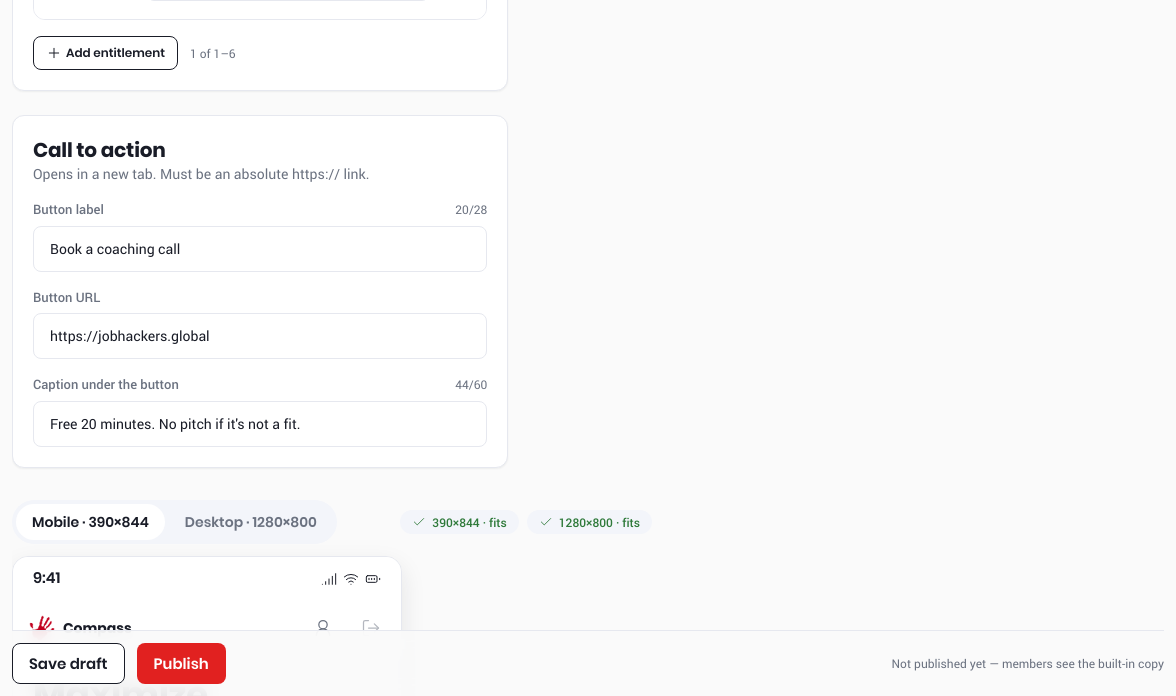
Admin → Coaching tab › blocks publish on an invalid CTA url or a blank required field, but still saves a draft
The image size is (1176, 696).
(page scrolled)
Replace the text in the field labelled "Button URL" with "http://jobhackers.global" at (260, 336), box [33,313,487,359]
(page scrolled)
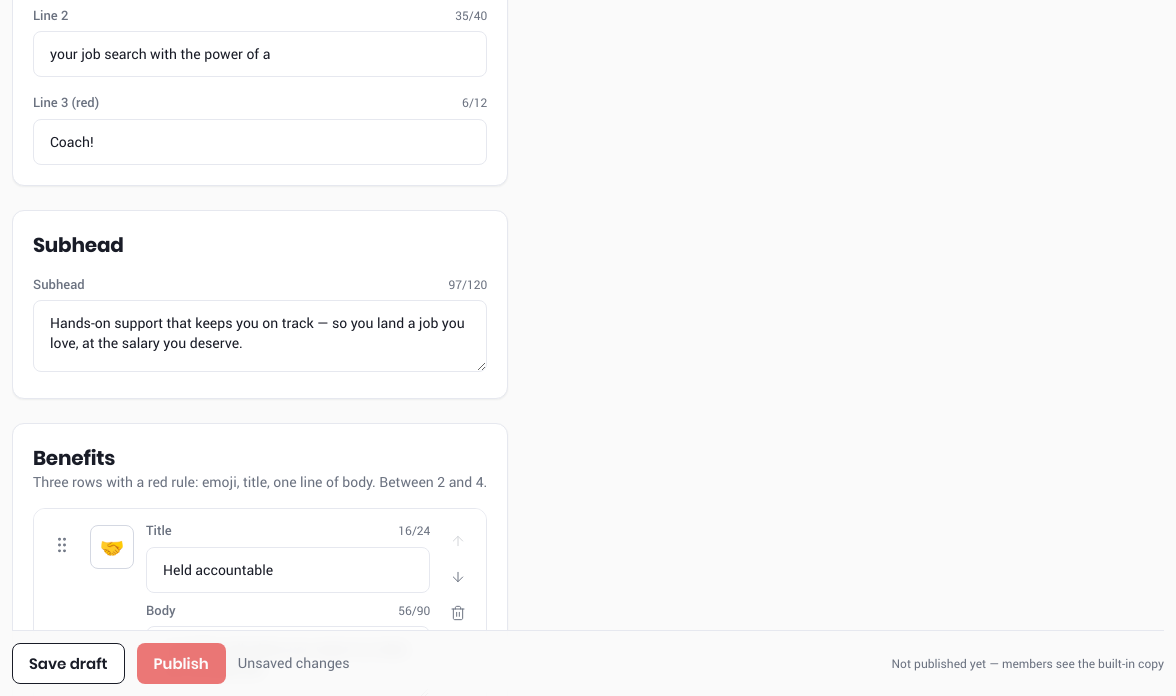
Expected: the button "Publish" is disabled, [136,643,226,684]
Clear the text box labelled "Subhead" at (260, 336), box [33,300,487,372]
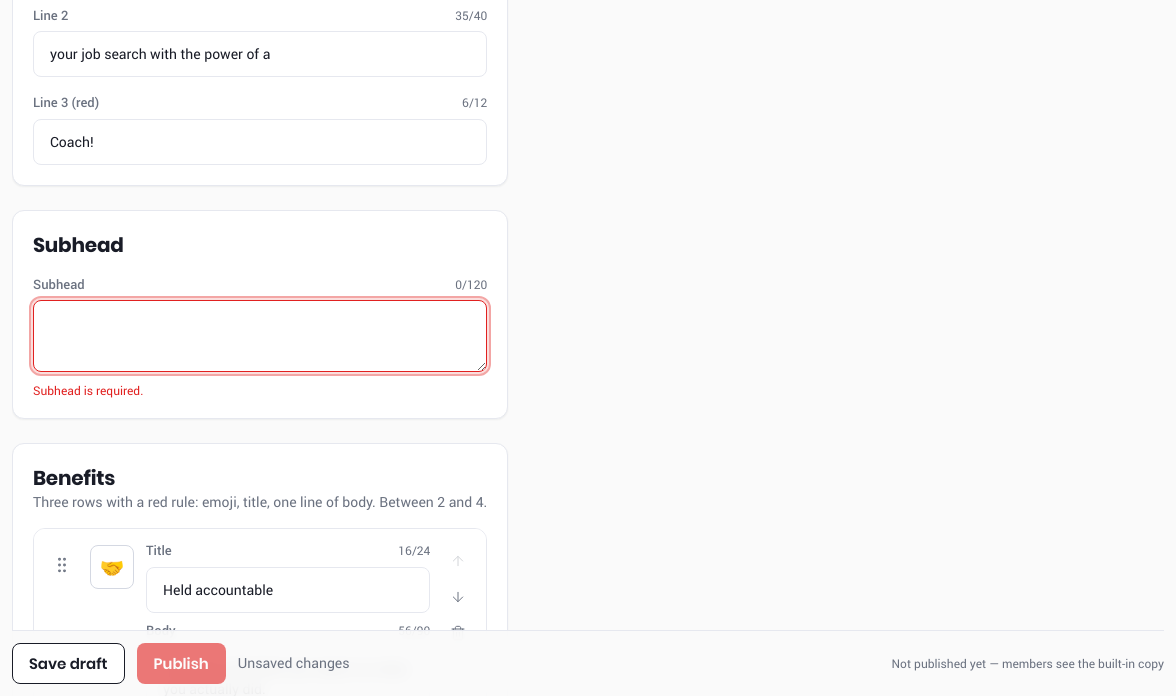
Expected: the text "Subhead is required." is shown, [33,382,143,398]
Click the button "Save draft" at (68, 664), box [12,643,124,684]
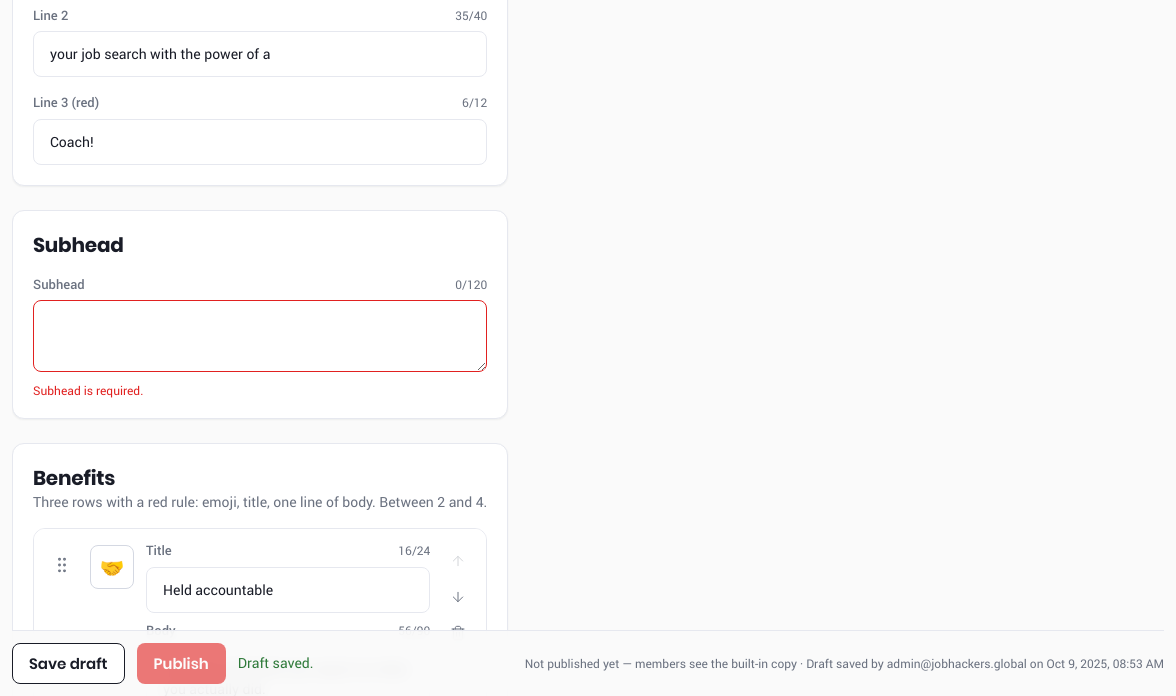
Expected: the text with test id "coaching-audit" shows "Not published yet", [525,656,797,672]
Expected: the text "Draft saved." is shown, [238,654,314,674]
Expected: the text with test id "coaching-audit" shows "Draft saved by admin@jobhackers.global", [525,656,1164,672]
